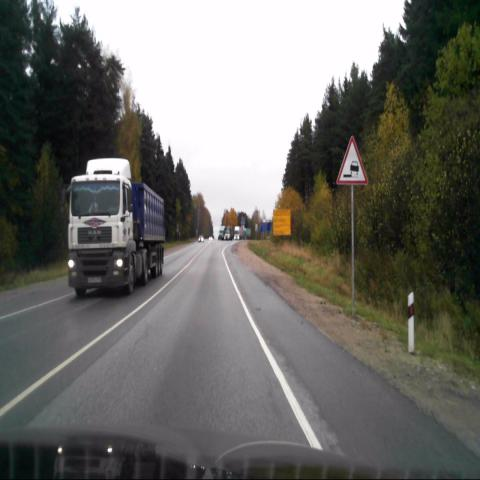1_19: (336, 134, 368, 184)
